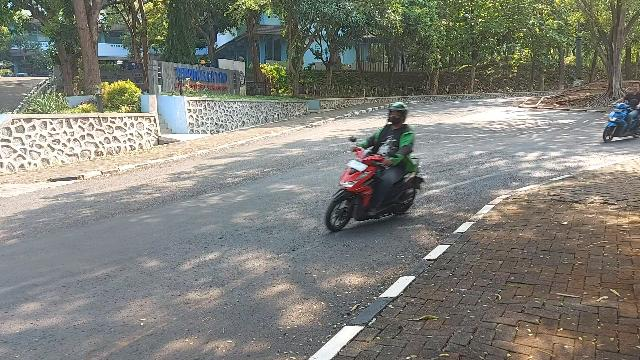helm: (390, 103, 409, 125)
motor: (327, 138, 424, 232)
